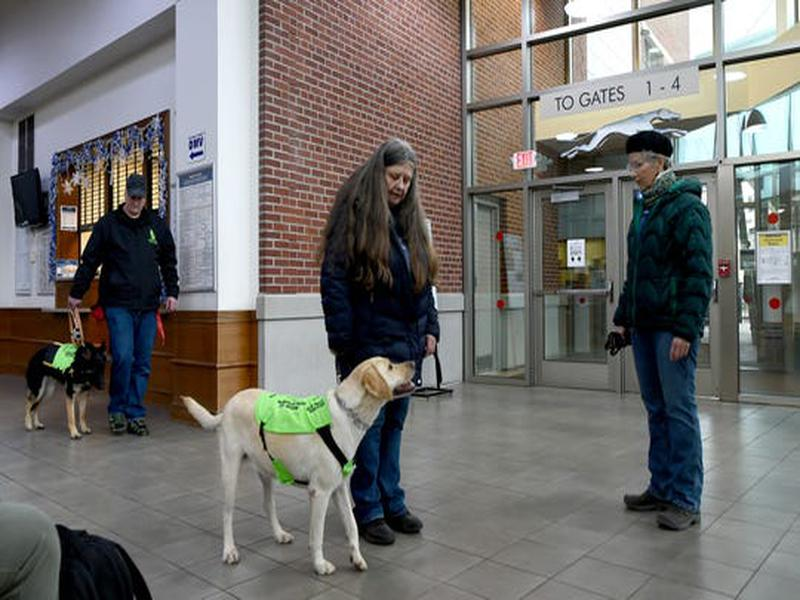dog_stand: (177, 356, 418, 579)
